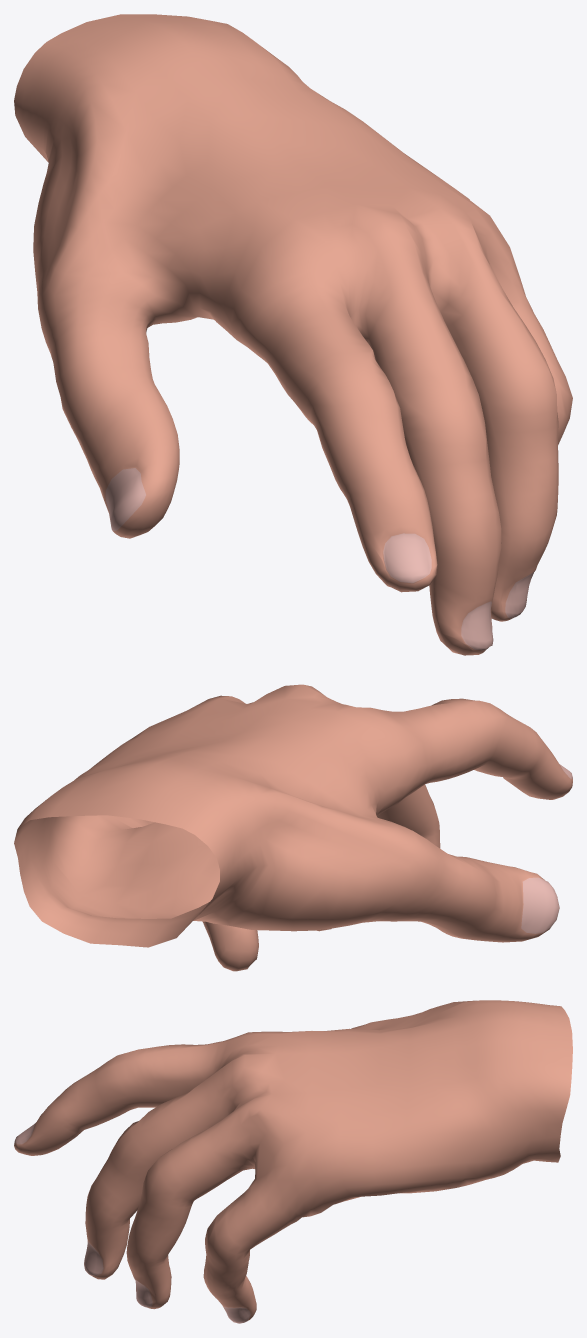
Rendered from WitnessHand.fbx.
3 views of the same model, one above another, from view 1: azimuth 30°, elevation 25°; view 2: azimuth 150°, elevation 25°; view 3: azimuth 270°, elevation 25° (orthographic). The views are drawn at different scales.
Parts seen in each view (by area): view 1: Object_4.002, Object_5.002; view 2: Object_4.002, Object_5.002; view 3: Object_4.002, Object_5.002.
Part boxes in pixels (box(x1,y1,x2,y2)): Object_4.002: box(14, 14, 572, 655); Object_5.002: box(105, 468, 534, 650); Object_4.002: box(14, 684, 572, 971); Object_5.002: box(521, 764, 572, 933); Object_4.002: box(14, 1000, 572, 1320); Object_5.002: box(14, 1123, 250, 1323).
Bounding box in the file's own units: 31.22 × 26.57 × 49.73.
